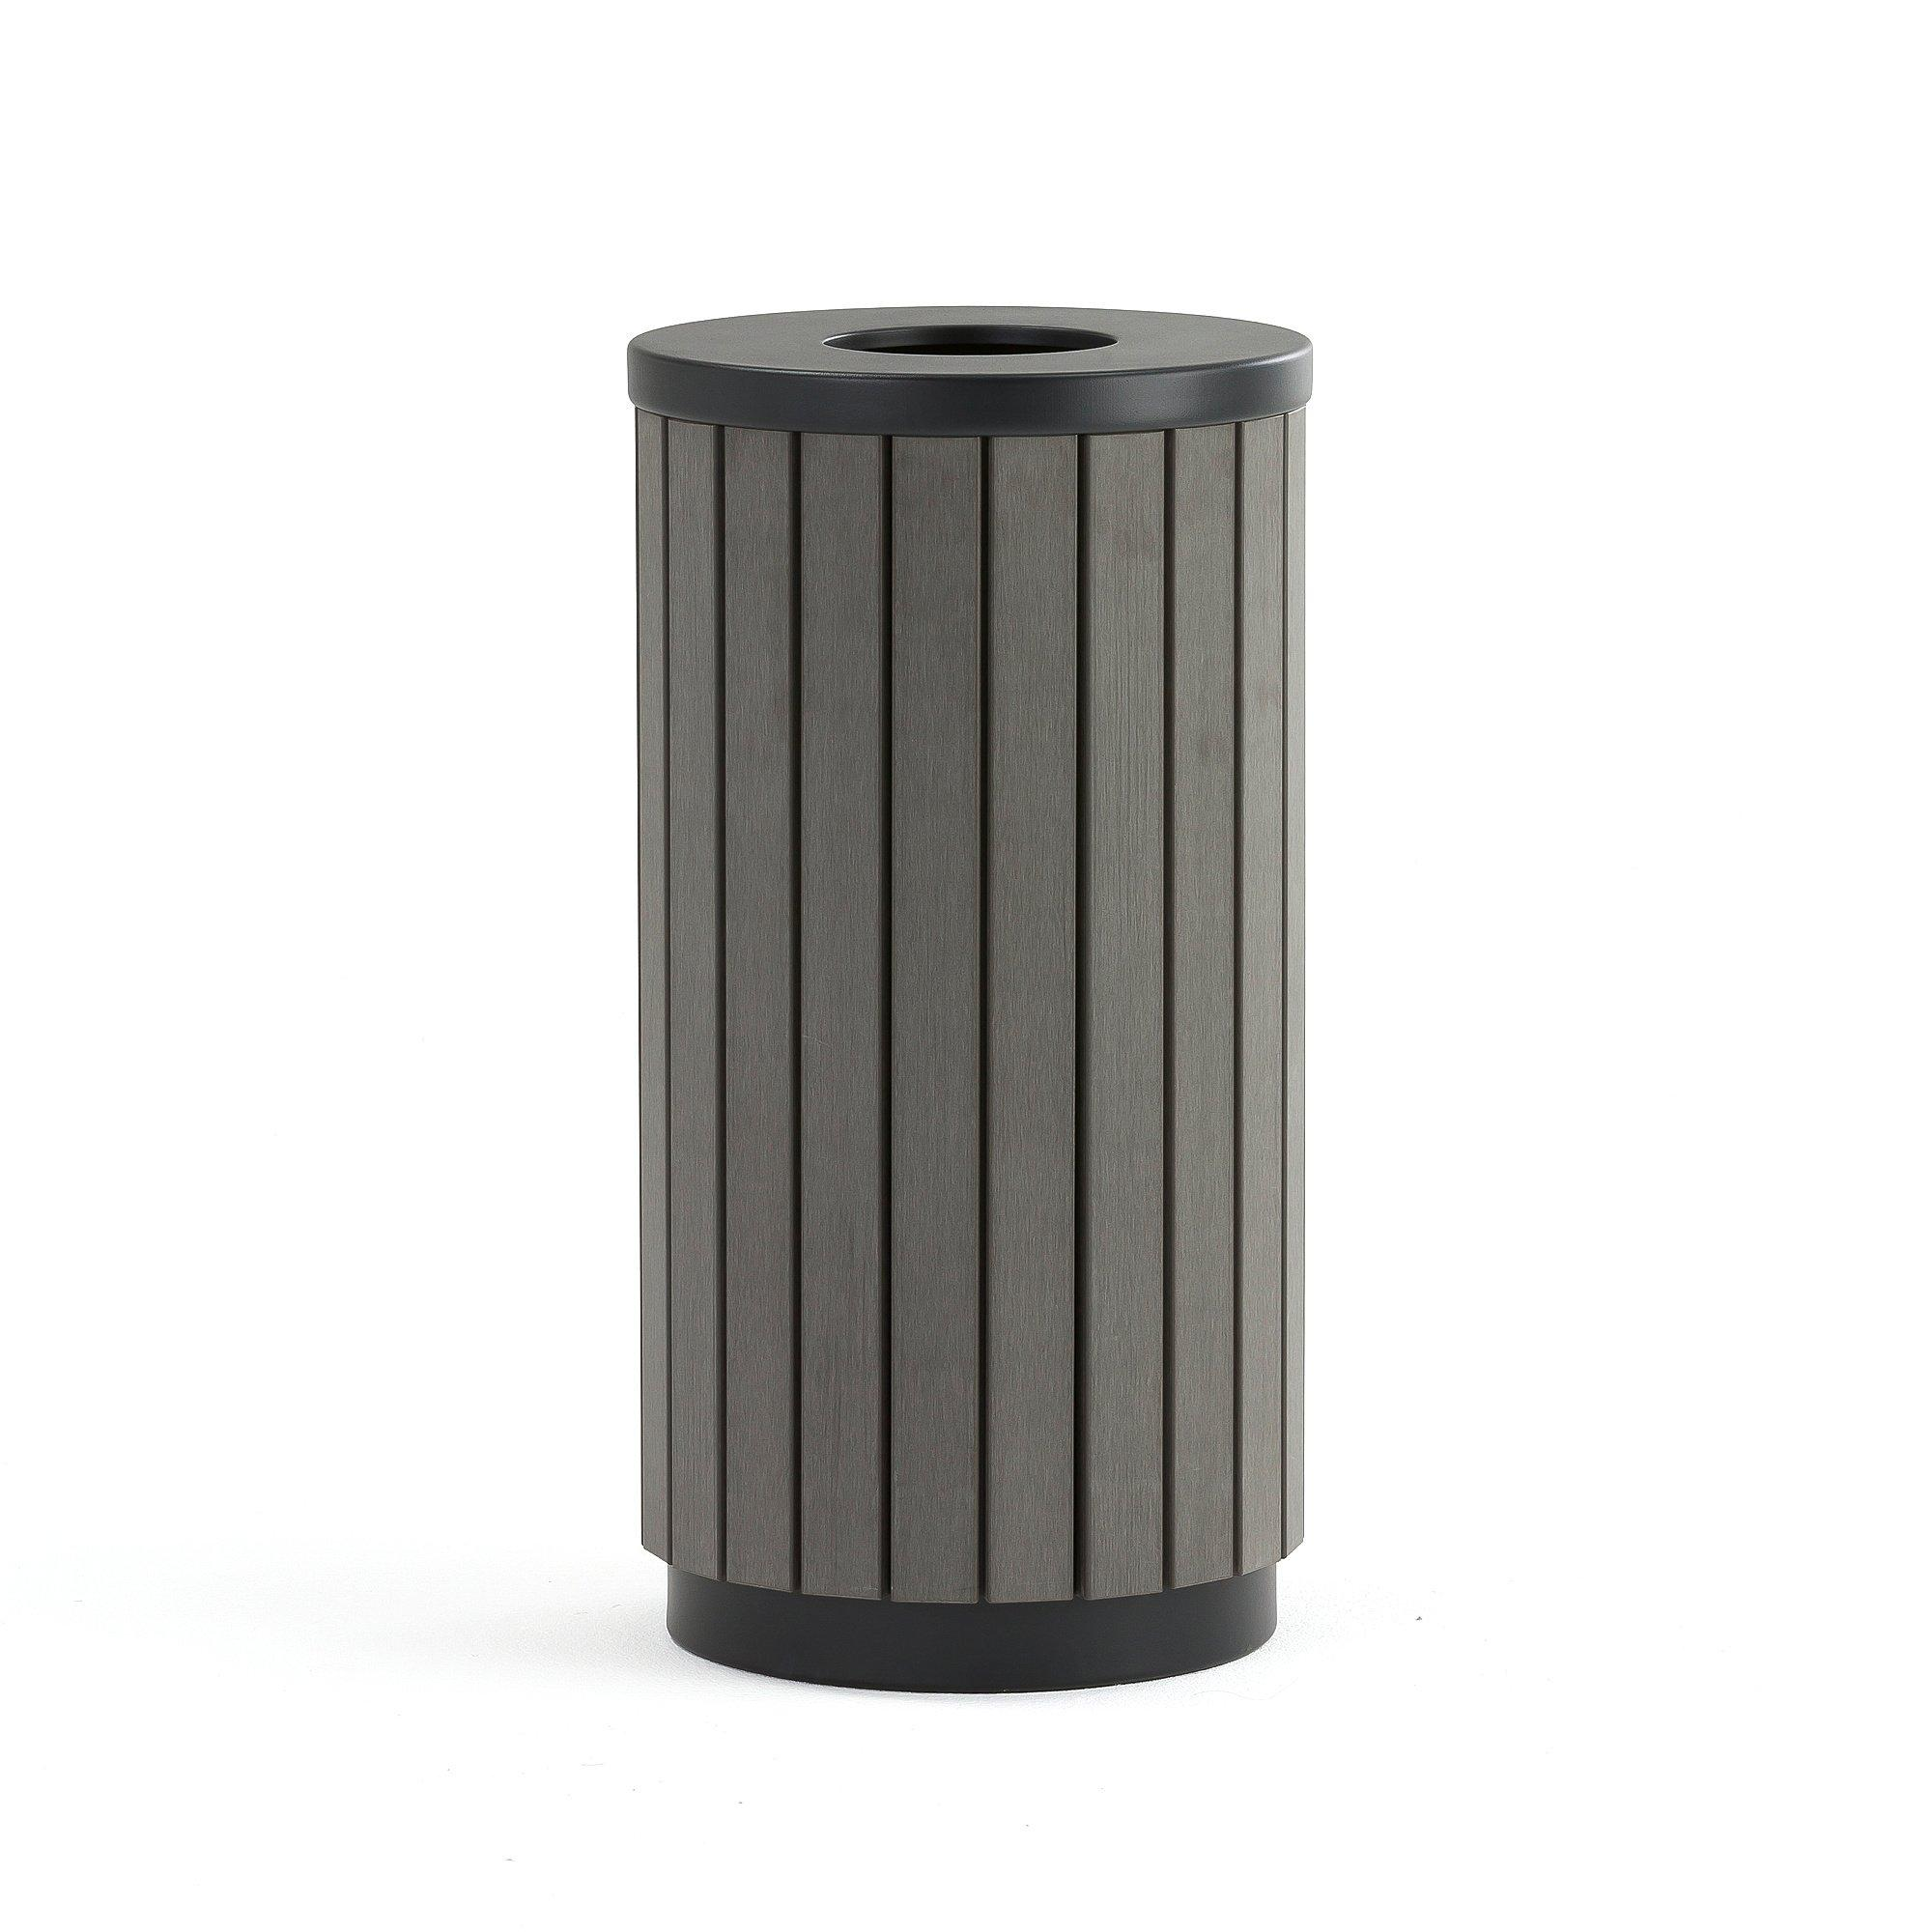trash bin: (584, 313, 1353, 1720)
